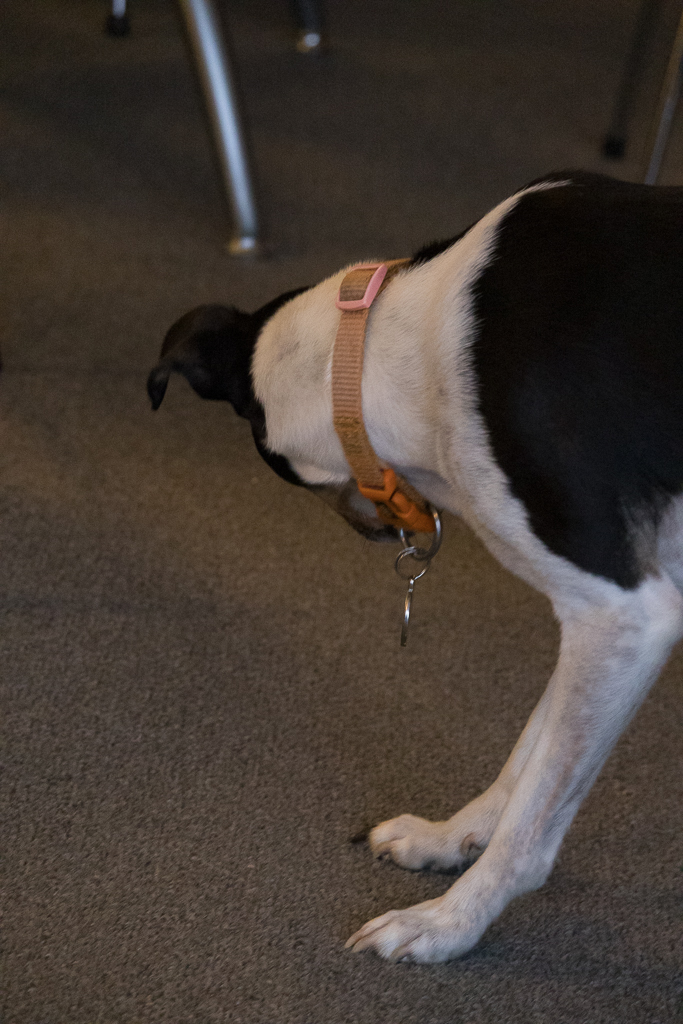Dog: (133, 156, 683, 973)
